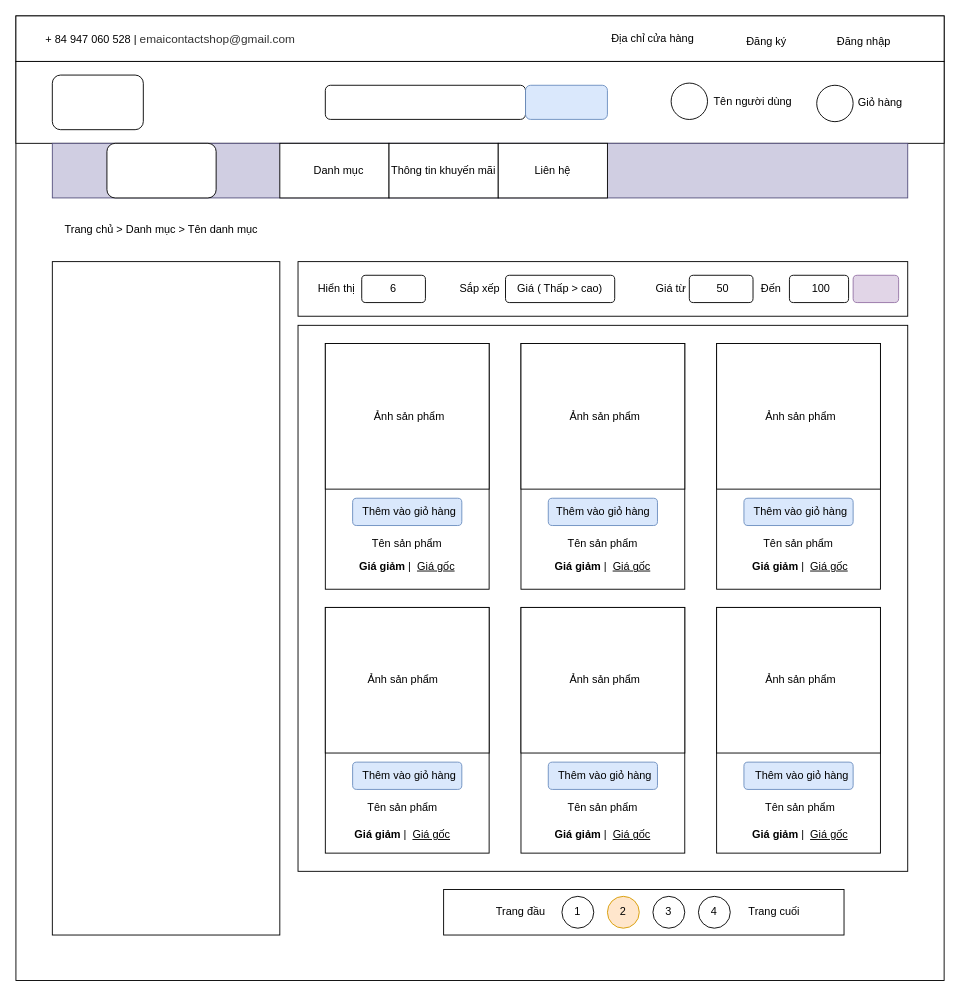
Some shapes in this 960 by 996 pixel diagram are drawn without their labels. Here are the shapes that lost their labels. From the top down, the centre of each, then its label:
At point (97, 102): "Logo shop".
At point (566, 101): "Tìm kiếm".
At point (161, 170): "Trang chủ".
At point (875, 288): "Lọc".
At point (165, 598): "Danh sách danh mục".
